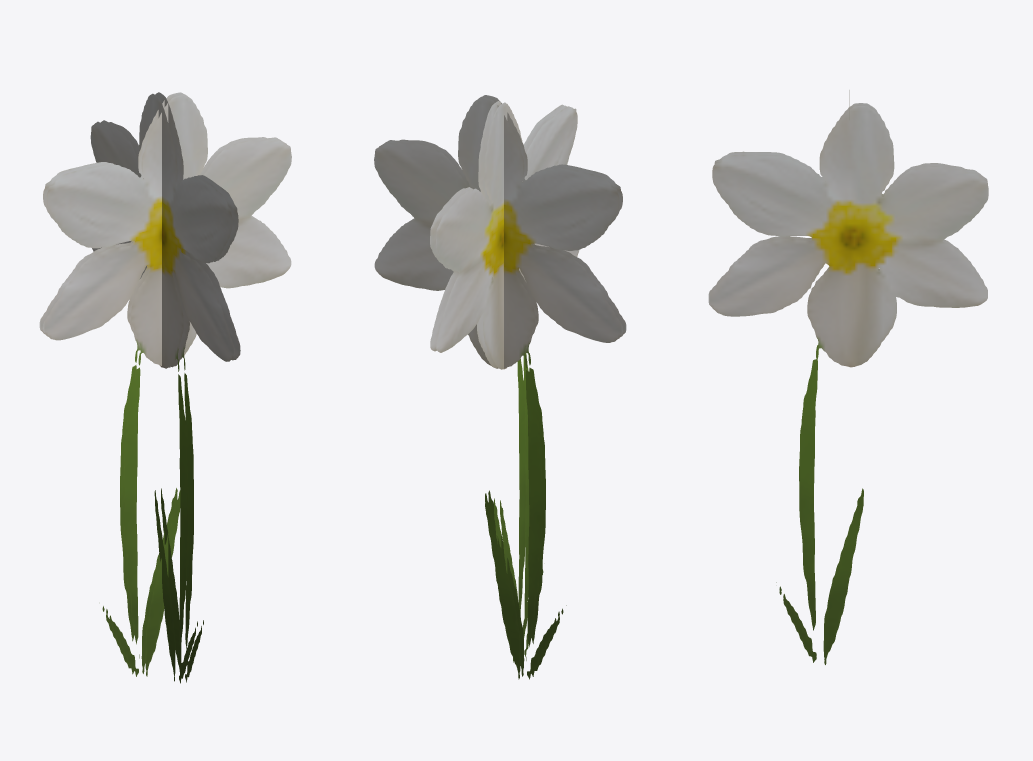
File: Flowers1.fbx
3 renders of one model, left to right at view 1: azimuth 30°, elevation 25°; view 2: azimuth 150°, elevation 25°; view 3: azimuth 270°, elevation 25°, orthographic. The views are drawn at different scales.
Parts seen in each view (by area): view 1: n_grass_diff_0_22.003; view 2: n_grass_diff_0_22.003; view 3: n_grass_diff_0_22.003.
Part boxes in pixels (box(x1,y1,x2,y2)): n_grass_diff_0_22.003: box(39, 92, 291, 683); n_grass_diff_0_22.003: box(374, 95, 626, 679); n_grass_diff_0_22.003: box(708, 90, 988, 664).
Bounding box in the file's own units: 49.1 × 94.27 × 49.1.
